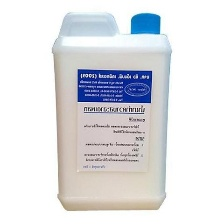cleaning_solution: (50, 6, 175, 215)
